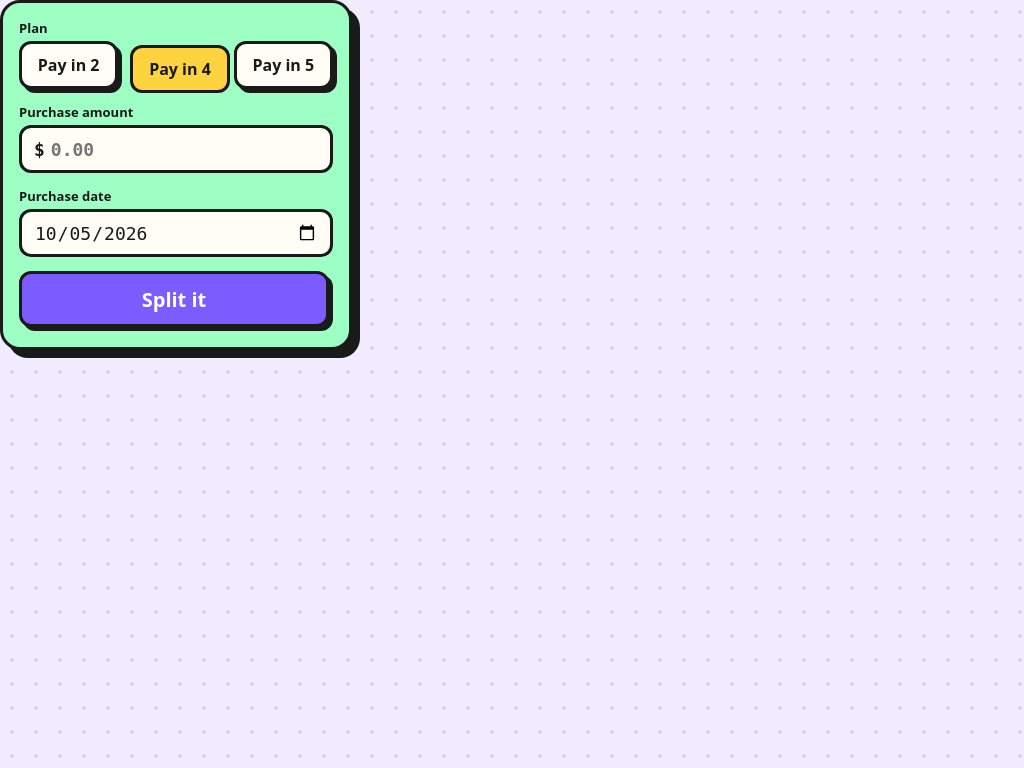
Test: PaymentPlanner › requires a purchase date
Type "100" into the field labelled "Purchase amount" at (187, 149), box [45, 138, 330, 160]
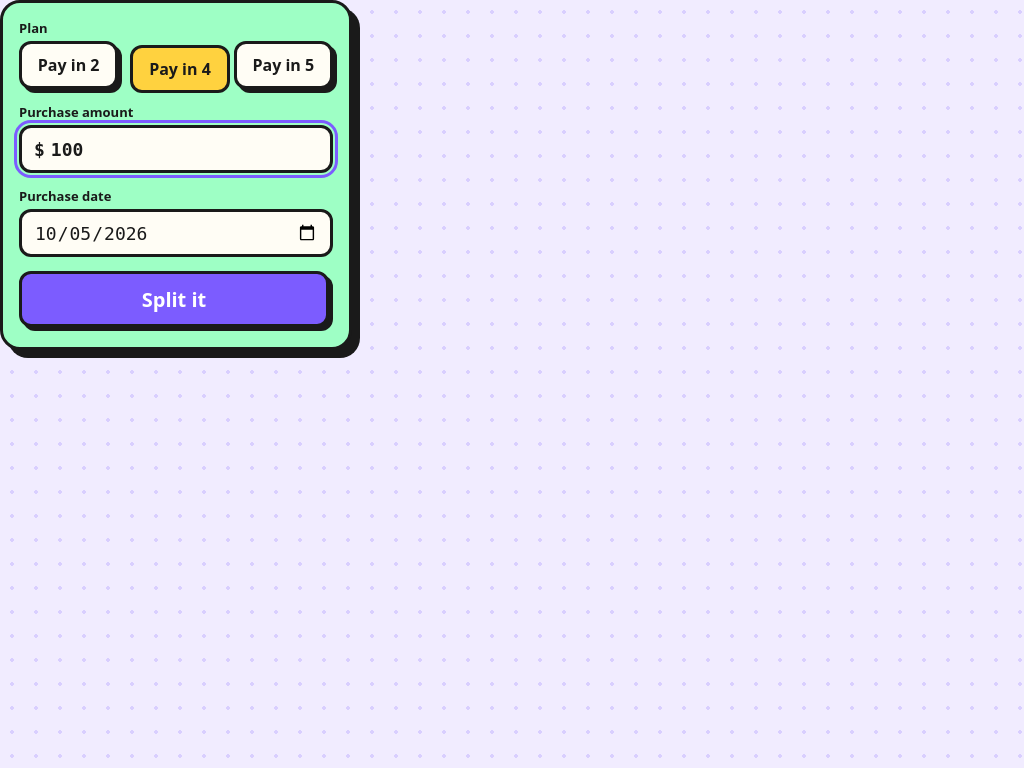
Clear the date field labelled "Purchase date" at (176, 233), box [19, 209, 333, 257]
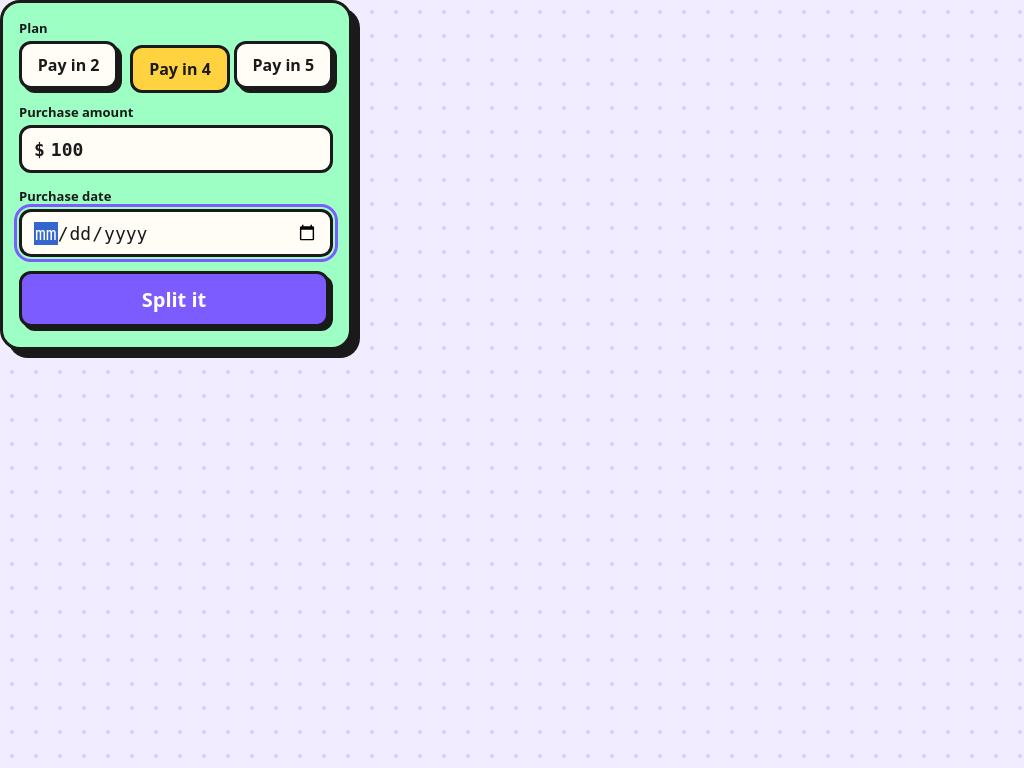
Click the button "Split it" at (174, 299), box [19, 271, 329, 327]
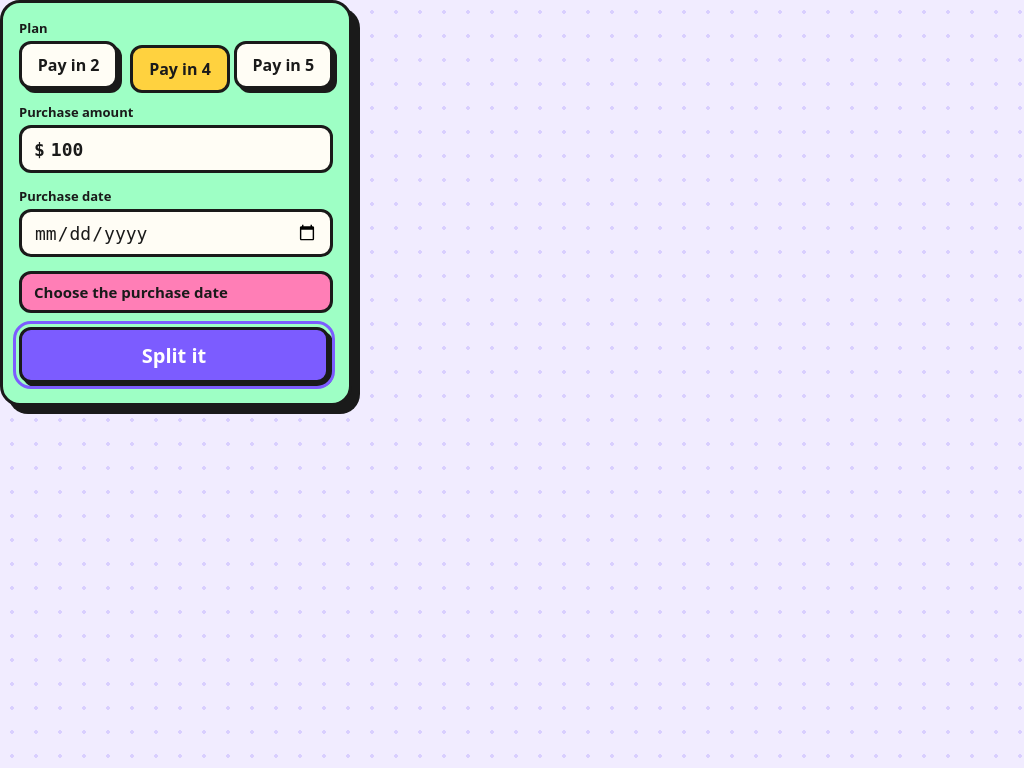
expect the message reads "Choose the purchase date": met, box [34, 282, 228, 302]
